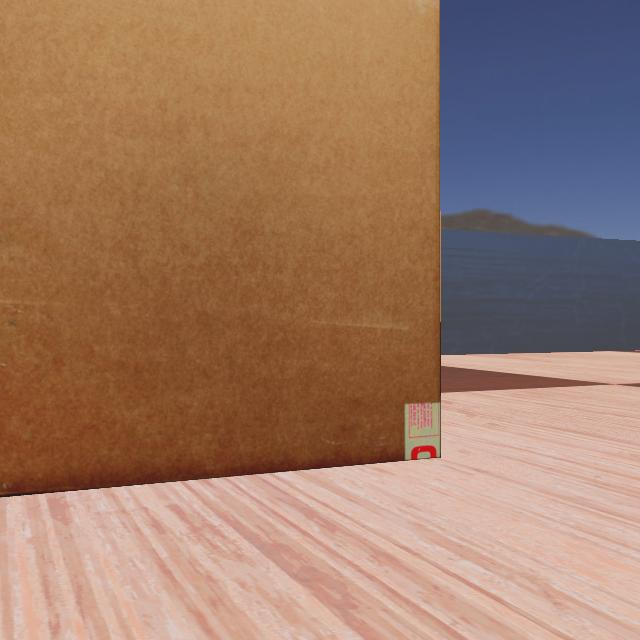cardboard-box: (0, 1, 520, 550)
